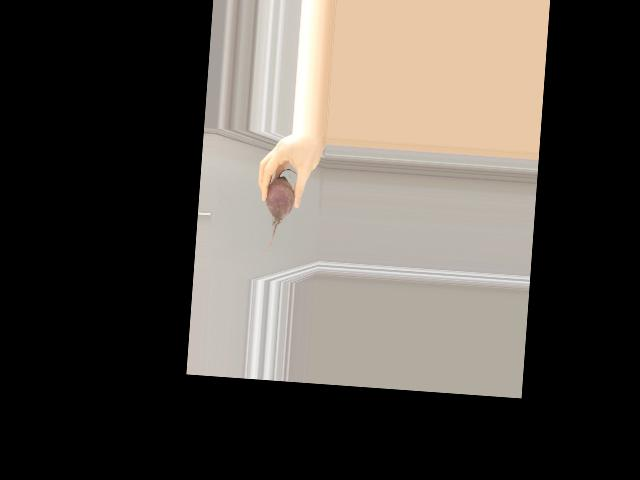beet: (262, 168, 297, 257)
